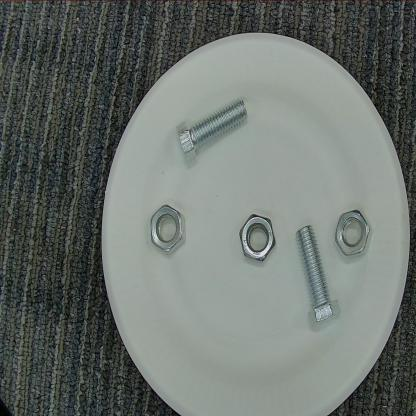FOD: (292, 218, 342, 332), (174, 94, 249, 165), (148, 199, 188, 260), (238, 209, 278, 268), (333, 208, 374, 260)
